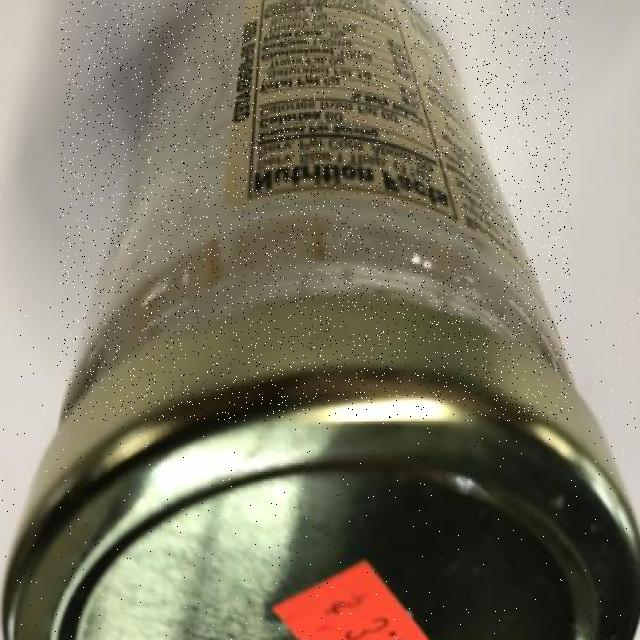glass: (60, 1, 572, 420)
metal: (0, 299, 640, 640)
